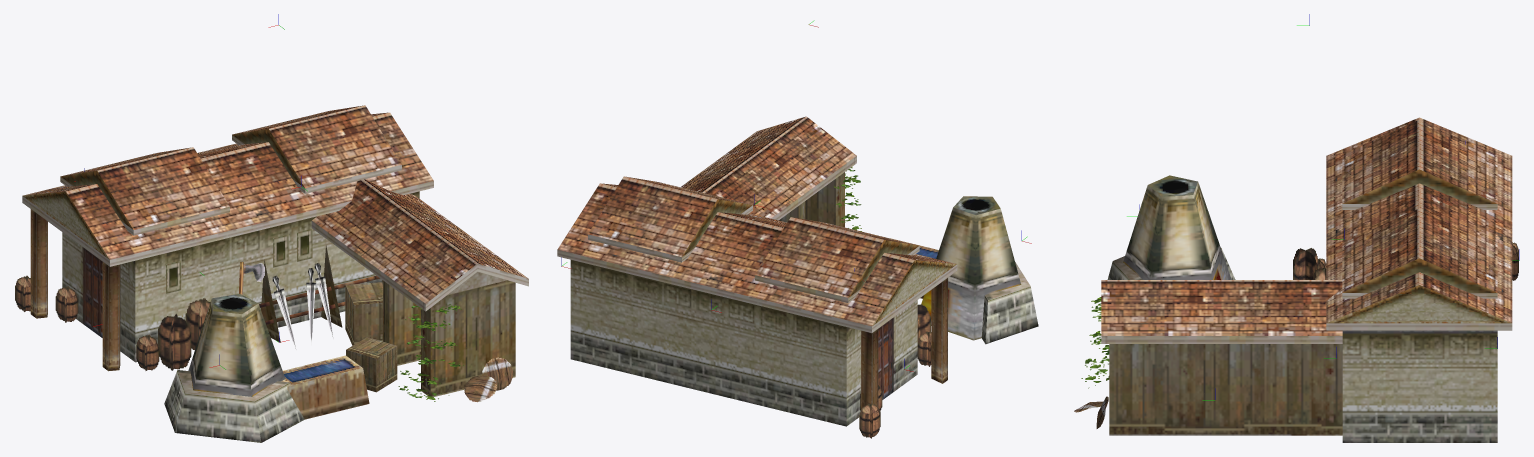
The model's file is greek-armory.glb.
The picture shows the model from 3 angles, left to right: view 1: azimuth 30°, elevation 25°; view 2: azimuth 150°, elevation 25°; view 3: azimuth 270°, elevation 25°; orthographic projection. The views are drawn at different scales.
Visible parts, largest first — view 1: building g armoryage1Model; view 2: building g armoryage1Model; view 3: building g armoryage1Model.
Part boxes in pixels (x1,y1,x2,y2): building g armoryage1Model: (15,105,528,442); building g armoryage1Model: (557,116,1038,438); building g armoryage1Model: (1074,117,1518,442).
Bounding box in the file's own units: 7.89 × 7.7 × 8.69.
5 materials, 4 textured.
